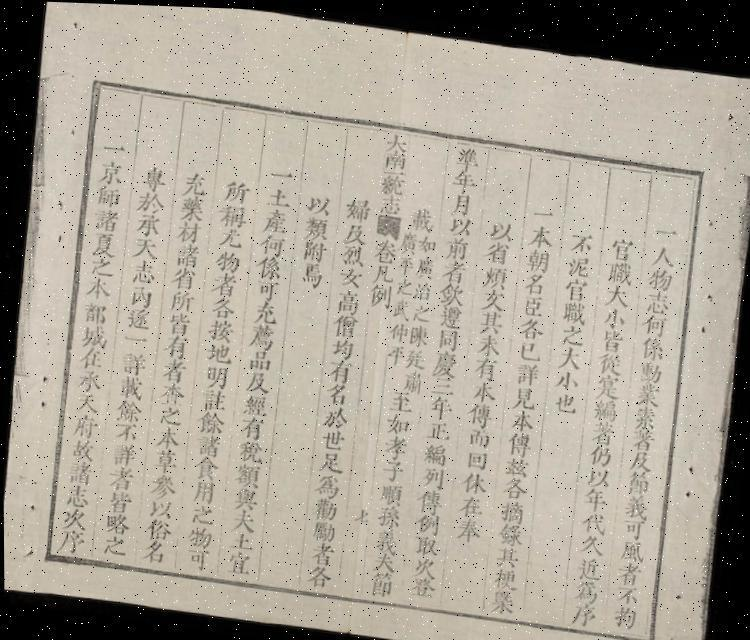c: (429, 345, 459, 376), (176, 192, 207, 222), (452, 511, 484, 540), (406, 200, 436, 230), (139, 162, 169, 192), (129, 256, 159, 286), (622, 486, 652, 516), (470, 350, 500, 380), (592, 368, 622, 397), (96, 157, 126, 186), (115, 371, 145, 400), (245, 320, 276, 348), (253, 252, 284, 280), (89, 229, 118, 258), (370, 523, 399, 552), (343, 192, 372, 221), (261, 205, 290, 234), (148, 470, 177, 499), (312, 469, 342, 497), (320, 400, 350, 428), (191, 453, 221, 481), (642, 283, 672, 311), (106, 464, 136, 492), (150, 445, 180, 473), (210, 268, 240, 296), (118, 348, 148, 376), (504, 426, 534, 454), (614, 554, 644, 582), (526, 217, 556, 245), (56, 526, 86, 554), (108, 440, 138, 468), (298, 258, 326, 288), (645, 260, 675, 288), (368, 566, 396, 596), (465, 397, 495, 425), (604, 254, 634, 282), (301, 212, 331, 240), (567, 596, 598, 623), (205, 315, 236, 342), (195, 407, 226, 434), (78, 322, 109, 349), (231, 459, 262, 486), (220, 176, 251, 203), (217, 201, 248, 228), (134, 188, 166, 214), (172, 240, 201, 268), (581, 480, 610, 508), (415, 484, 444, 512), (250, 296, 279, 324), (64, 458, 93, 486), (161, 331, 190, 359), (426, 390, 455, 418), (633, 376, 662, 404), (509, 380, 538, 408), (638, 329, 667, 357), (325, 354, 354, 382), (331, 308, 360, 336), (481, 260, 510, 288), (180, 168, 209, 196), (449, 164, 479, 191), (80, 298, 110, 325), (486, 584, 516, 611), (124, 304, 154, 331), (133, 210, 163, 237), (91, 205, 121, 232), (609, 598, 639, 625), (230, 483, 260, 510), (496, 494, 526, 521), (234, 435, 264, 462), (130, 233, 160, 260), (61, 482, 92, 508), (202, 339, 234, 364), (574, 549, 602, 577), (308, 537, 336, 565), (608, 230, 636, 258), (160, 355, 188, 383), (588, 414, 616, 442), (378, 168, 406, 196), (440, 254, 468, 282), (564, 248, 592, 276), (499, 470, 528, 497), (113, 396, 142, 423), (70, 412, 99, 439), (476, 305, 505, 332), (483, 235, 512, 262), (201, 361, 230, 388), (310, 493, 339, 520), (374, 500, 403, 527), (571, 573, 600, 600), (595, 345, 624, 372), (555, 339, 584, 366), (578, 504, 608, 530), (59, 504, 89, 530), (494, 516, 524, 542), (181, 544, 211, 570), (227, 506, 257, 532), (316, 446, 346, 472), (192, 431, 222, 457), (436, 278, 466, 304), (257, 230, 287, 256), (459, 466, 489, 492), (223, 548, 253, 574), (640, 307, 670, 333), (303, 188, 333, 214), (236, 412, 266, 438), (240, 390, 270, 416), (590, 392, 620, 418), (512, 356, 540, 383), (384, 407, 412, 434), (420, 437, 448, 464), (381, 430, 409, 457), (304, 560, 332, 587), (562, 272, 590, 299), (560, 295, 588, 322), (524, 243, 552, 270), (104, 488, 133, 514), (453, 141, 482, 167), (492, 539, 521, 565), (550, 386, 579, 412), (139, 538, 168, 564), (376, 478, 405, 504), (199, 386, 228, 412), (212, 246, 241, 272), (168, 264, 197, 290), (486, 214, 515, 240), (456, 489, 485, 515), (83, 274, 112, 300), (599, 300, 628, 326), (478, 284, 507, 310), (567, 225, 596, 251), (184, 522, 213, 548), (74, 367, 104, 392), (152, 424, 182, 449), (175, 218, 202, 245), (409, 550, 437, 576), (188, 500, 216, 526), (650, 238, 678, 264), (630, 400, 658, 426), (378, 454, 406, 480), (158, 380, 186, 406), (558, 318, 586, 344), (474, 328, 502, 354), (602, 278, 630, 304), (334, 284, 360, 312), (517, 312, 545, 338), (167, 286, 195, 312), (436, 300, 464, 326), (629, 421, 657, 447), (245, 344, 273, 370), (243, 367, 271, 393), (144, 514, 172, 540), (598, 322, 626, 348), (94, 182, 122, 208), (126, 282, 154, 308), (300, 236, 328, 262), (583, 459, 612, 484), (490, 562, 519, 587), (502, 450, 531, 475), (216, 224, 245, 249), (77, 345, 106, 370), (468, 376, 498, 400), (616, 533, 646, 557), (576, 526, 606, 550), (443, 232, 470, 258), (372, 235, 398, 262), (624, 464, 652, 489), (102, 510, 130, 535), (636, 354, 664, 379), (586, 438, 614, 463), (72, 389, 100, 414), (626, 443, 654, 468), (68, 437, 96, 462), (264, 183, 292, 208), (412, 508, 441, 532), (552, 364, 581, 388), (448, 188, 474, 214), (399, 366, 425, 392), (190, 478, 217, 503), (329, 333, 356, 358), (165, 310, 192, 335), (387, 386, 414, 411), (156, 402, 183, 427), (209, 294, 236, 319), (146, 494, 174, 518), (412, 530, 440, 554), (319, 424, 347, 448), (382, 128, 410, 152), (99, 532, 127, 556), (112, 419, 140, 443), (612, 578, 640, 602), (464, 422, 492, 446), (508, 404, 536, 428), (462, 444, 490, 468), (324, 378, 350, 403), (368, 280, 393, 306), (342, 218, 368, 243), (253, 276, 280, 300), (418, 462, 445, 486), (336, 262, 363, 286), (619, 512, 646, 536), (310, 516, 337, 540), (446, 210, 473, 234), (424, 416, 451, 440), (408, 572, 436, 595), (428, 371, 456, 394), (87, 255, 115, 278), (650, 217, 680, 238), (435, 324, 460, 349), (522, 267, 547, 292), (516, 335, 542, 359), (226, 528, 254, 550), (340, 240, 365, 264), (406, 320, 430, 345), (521, 289, 545, 314), (402, 343, 426, 368), (414, 252, 437, 278), (381, 148, 408, 170), (369, 548, 396, 570), (268, 162, 297, 182), (121, 328, 150, 348), (376, 192, 402, 214), (384, 339, 406, 364), (100, 138, 128, 157), (410, 276, 433, 299), (398, 228, 420, 252), (390, 294, 412, 318), (409, 299, 432, 321), (371, 260, 395, 281), (416, 231, 438, 253), (388, 318, 410, 340), (530, 201, 556, 219), (394, 272, 414, 294), (397, 251, 416, 274), (352, 502, 371, 522)
